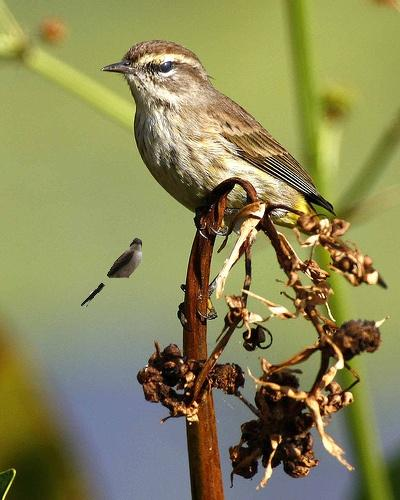tampered: (82, 239, 142, 307)
